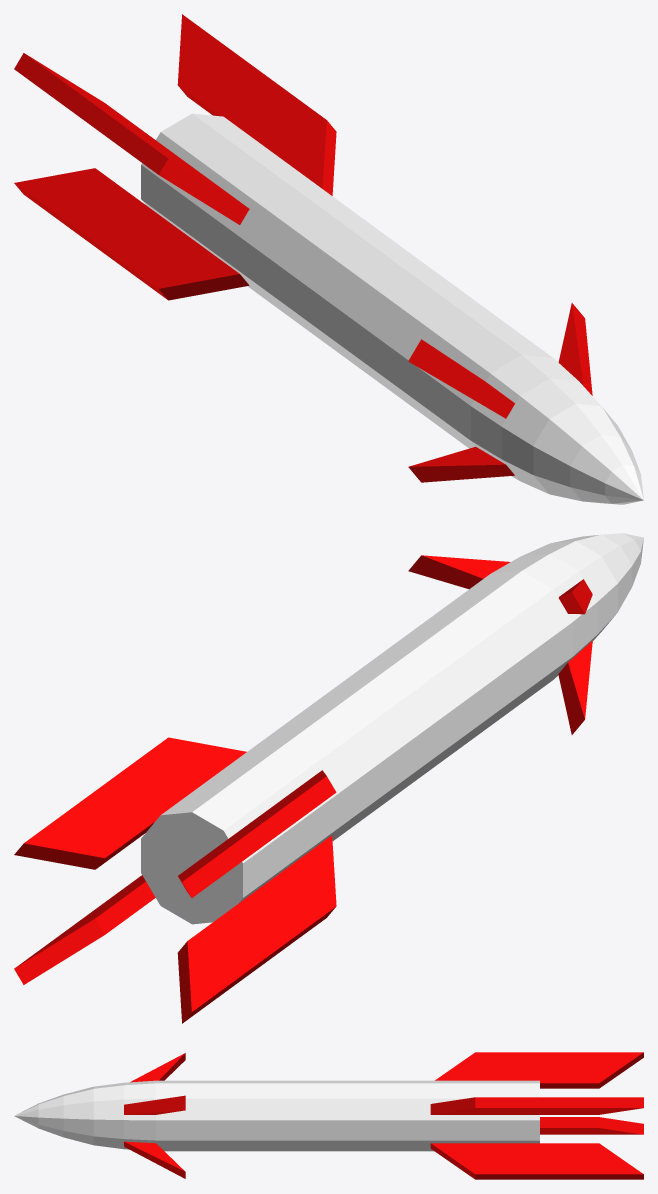
File: BossMissile.obj
3 views of the same model, one above another, from view 1: azimuth 30°, elevation 25°; view 2: azimuth 150°, elevation 25°; view 3: azimuth 270°, elevation 25° (orthographic). The views are drawn at different scales.
Visible parts, largest first — view 1: Cylinder; view 2: Cylinder; view 3: Cylinder.
Part boxes in pixels (x1=…): Cylinder: x1=14, y1=14, x2=643, y2=504; Cylinder: x1=14, y1=533, x2=643, y2=1023; Cylinder: x1=14, y1=1052, x2=643, y2=1179.
Bounding box in the file's own units: 0.4938 × 0.3808 × 2.6.
1 material, 1 textured.
